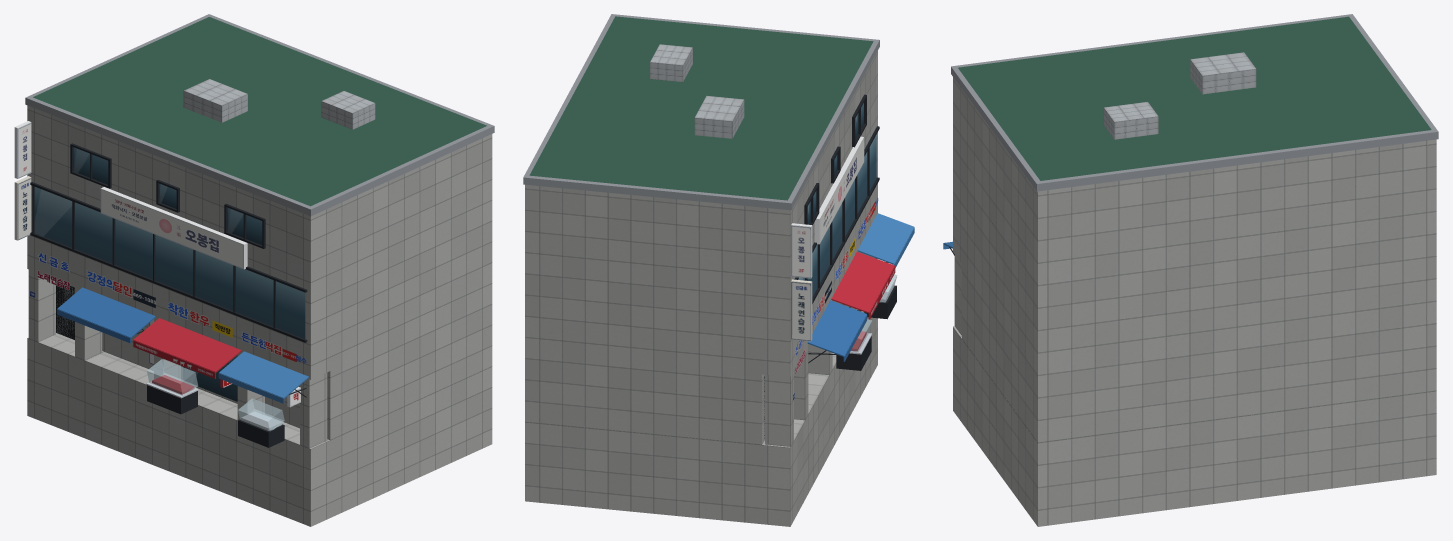
File: place_오봉집.glb
3 renders of one model, left to right at view 1: azimuth 30°, elevation 25°; view 2: azimuth 150°, elevation 25°; view 3: azimuth 270°, elevation 25°, orthographic. The views are drawn at different scales.
Visible parts, largest first — view 1: Merged_B2_Granite, Merged_B2_Roof, Merged_B2_Basement_Granite, Merged_B2_2FGlass, Merged_B2_Parapet, B2_Obongjip_2FSign, Merged_B2_HVAC, Merged_Awning_Blue, Merged_Awning_Crimson, Merged_B2_2FFrame, Merged_Awning_SkyBlue, Merged_Showcase_Glass (+11 smaller); view 2: Merged_B2_Granite, Merged_B2_Roof, Merged_B2_Basement_Granite, Merged_B2_Parapet, Merged_B2_HVAC, Merged_B2_2FGlass, Merged_Awning_Crimson, Merged_Awning_Blue, Merged_Awning_SkyBlue, Merged_B2_2FFrame, B2_Obongjip_2FSign, B2_NoraeVert_N (+5 smaller); view 3: Merged_B2_Granite, Merged_B2_Roof, Merged_B2_Basement_Granite, Merged_B2_Parapet, Merged_B2_HVAC.
Part boxes in pixels (left/top/right/bottom): Merged_B2_Granite: left=27, top=105, right=492, bottom=448; Merged_B2_Roof: left=33, top=17, right=486, bottom=206; Merged_B2_Basement_Granite: left=27, top=333, right=492, bottom=526; Merged_B2_2FGlass: left=34, top=187, right=305, bottom=338; Merged_B2_Parapet: left=25, top=14, right=494, bottom=216; B2_Obongjip_2FSign: left=100, top=189, right=243, bottom=268; Merged_B2_HVAC: left=183, top=79, right=375, bottom=129; Merged_Awning_Blue: left=57, top=287, right=155, bottom=343; Merged_Awning_Crimson: left=133, top=318, right=241, bottom=378; Merged_B2_2FFrame: left=30, top=182, right=307, bottom=342; Merged_Awning_SkyBlue: left=218, top=351, right=308, bottom=403; Merged_Showcase_Glass: left=147, top=359, right=284, bottom=430; Merged_B2_Granite: left=525, top=51, right=877, bottom=446; Merged_B2_Roof: left=529, top=16, right=873, bottom=200; Merged_B2_Basement_Granite: left=525, top=311, right=877, bottom=526; Merged_B2_Parapet: left=523, top=14, right=879, bottom=210; Merged_B2_HVAC: left=650, top=44, right=744, bottom=138; Merged_B2_2FGlass: left=798, top=135, right=876, bottom=296; Merged_Awning_Crimson: left=831, top=252, right=894, bottom=319; Merged_Awning_Blue: left=807, top=300, right=867, bottom=361; Merged_Awning_SkyBlue: left=857, top=213, right=914, bottom=267; Merged_B2_2FFrame: left=794, top=126, right=879, bottom=303; B2_Obongjip_2FSign: left=820, top=138, right=864, bottom=243; B2_NoraeVert_N: left=791, top=282, right=810, bottom=340; Merged_B2_Granite: left=953, top=77, right=1436, bottom=442; Merged_B2_Roof: left=958, top=16, right=1431, bottom=180; Merged_B2_Basement_Granite: left=953, top=326, right=1436, bottom=526; Merged_B2_Parapet: left=951, top=14, right=1438, bottom=191; Merged_B2_HVAC: left=1103, top=52, right=1256, bottom=139.
Bounding box in the file's own units: 16.36 × 15.52 × 19.22.
29 materials, 17 textured.
